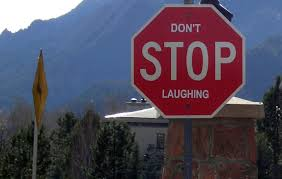Stop: (124, 2, 260, 126)
